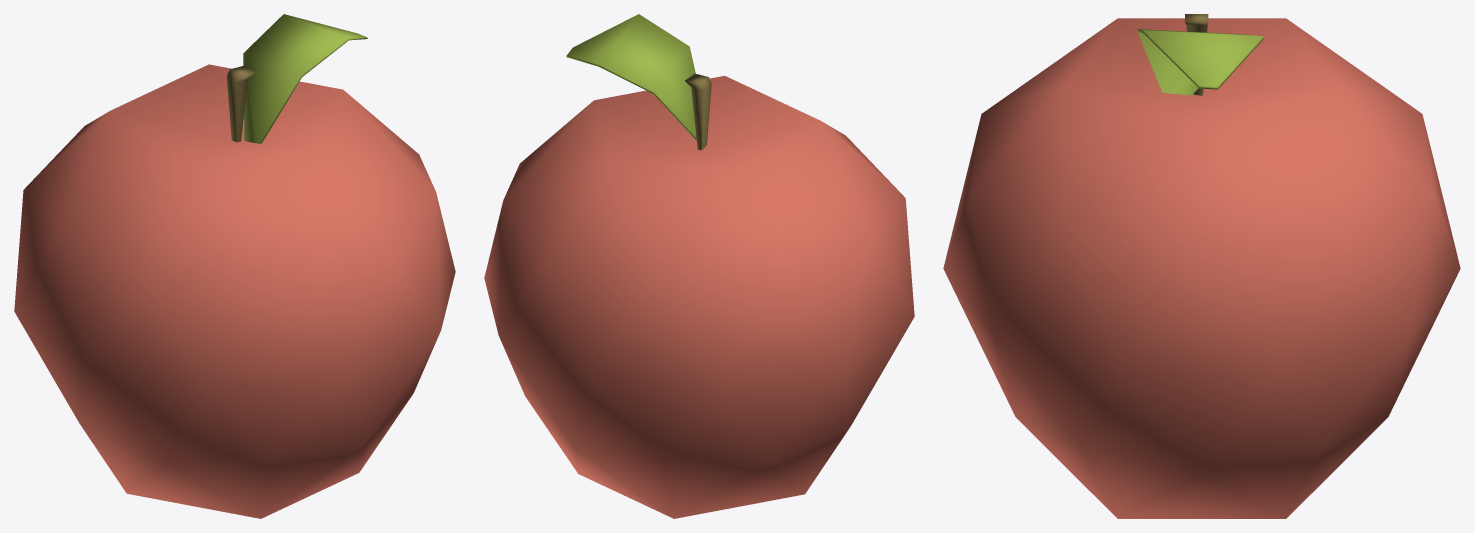
The model's file is Apple_01.glb.
3 views of the same model, side by side, from view 1: azimuth 30°, elevation 25°; view 2: azimuth 150°, elevation 25°; view 3: azimuth 270°, elevation 25° (orthographic). The views are drawn at different scales.
Visible parts, largest first — view 1: FoodApple_01; view 2: FoodApple_01; view 3: FoodApple_01.
Boxes of the visible parts, box(x1,y1,x2,y2) form: FoodApple_01: box(14, 14, 455, 518); FoodApple_01: box(484, 14, 914, 518); FoodApple_01: box(943, 14, 1460, 518).
Size of what is drawn, in the model's own units: 0.1581 by 0.1732 by 0.1662.
1 material, 1 textured.
